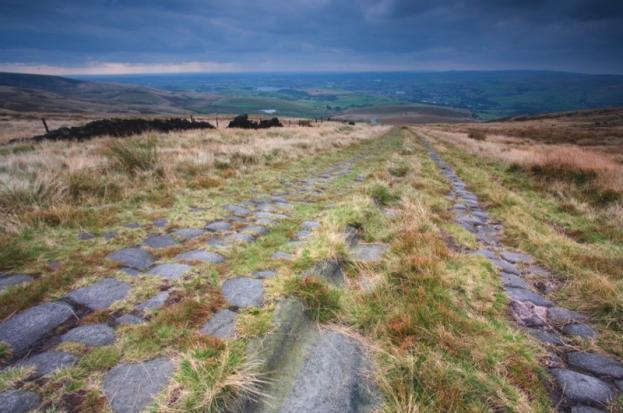brick: (1, 191, 281, 412), (473, 230, 623, 413)
